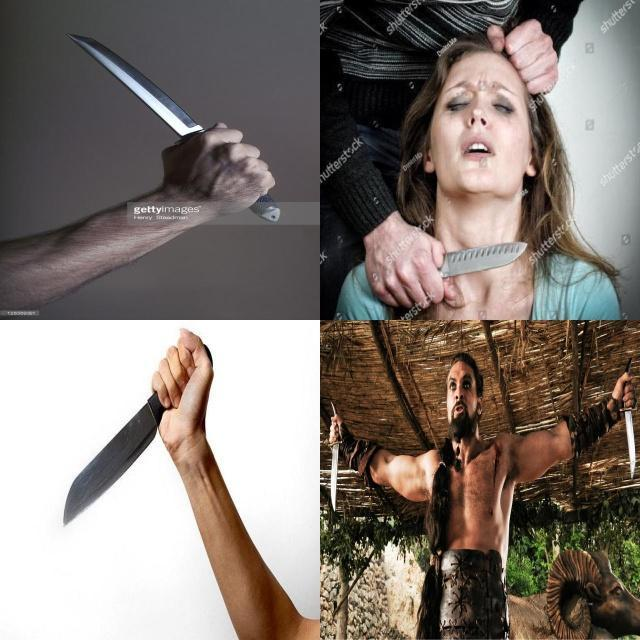-: (58, 30, 281, 181), (59, 347, 190, 534), (396, 236, 534, 310), (619, 375, 639, 484), (326, 412, 341, 516)
